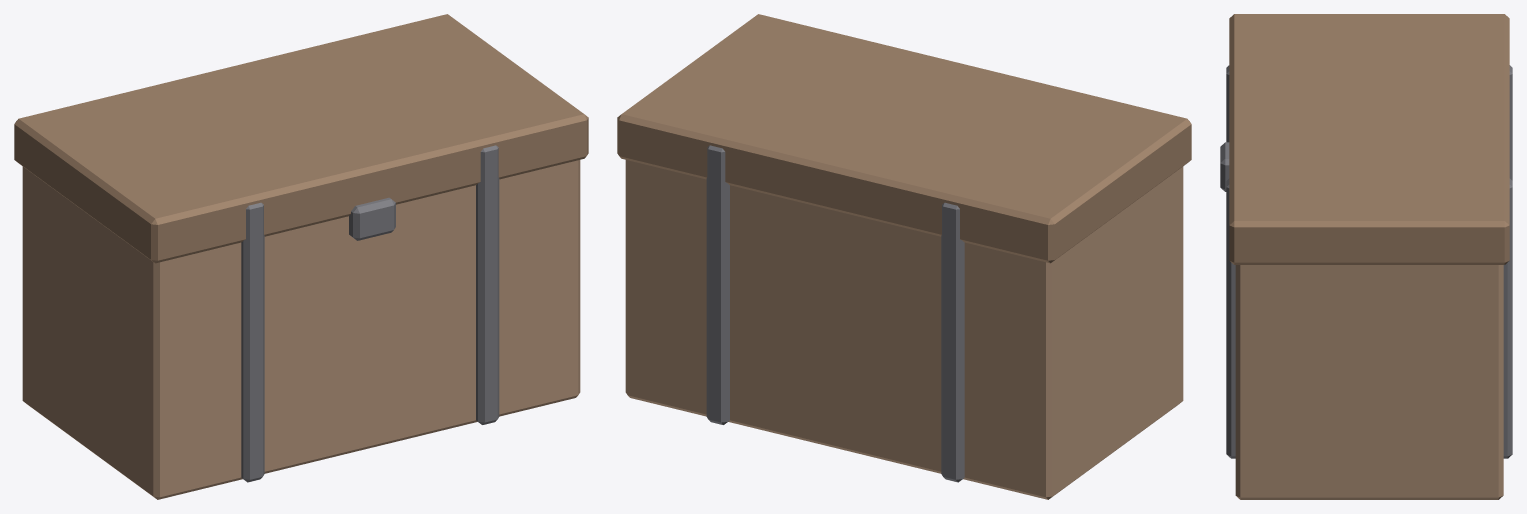
The model's file is SM_Chest.fbx.
3 views of the same model, side by side, from view 1: azimuth 30°, elevation 25°; view 2: azimuth 150°, elevation 25°; view 3: azimuth 270°, elevation 25° (orthographic).
Parts seen in each view (by area): view 1: Chest; view 2: Chest; view 3: Chest.
Part boxes in pixels (left/top/right/bottom): Chest: left=14, top=14, right=588, bottom=499; Chest: left=617, top=14, right=1191, bottom=499; Chest: left=1220, top=14, right=1512, bottom=499.
Bounding box in the file's own units: 82 × 51 × 48.
